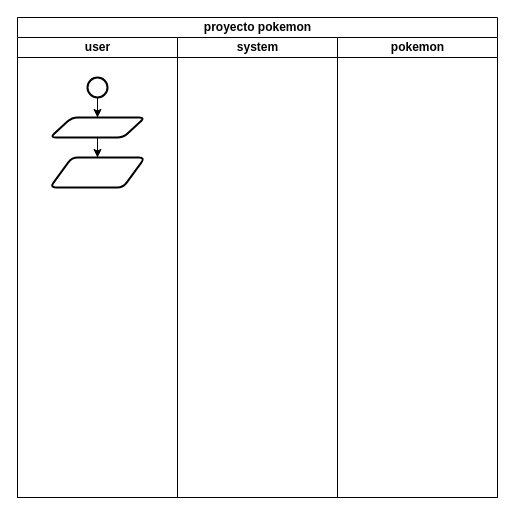
This 515x515 diagram has some shape labels left out. Each missing label, with the centre of its shape:
"Crear jugador" goes at [97,127].
"Elegir pokemon inicial" goes at [97,172].
